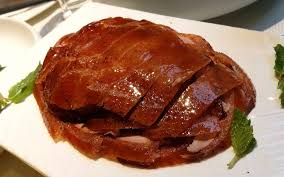peking_duck: (29, 12, 260, 165)
